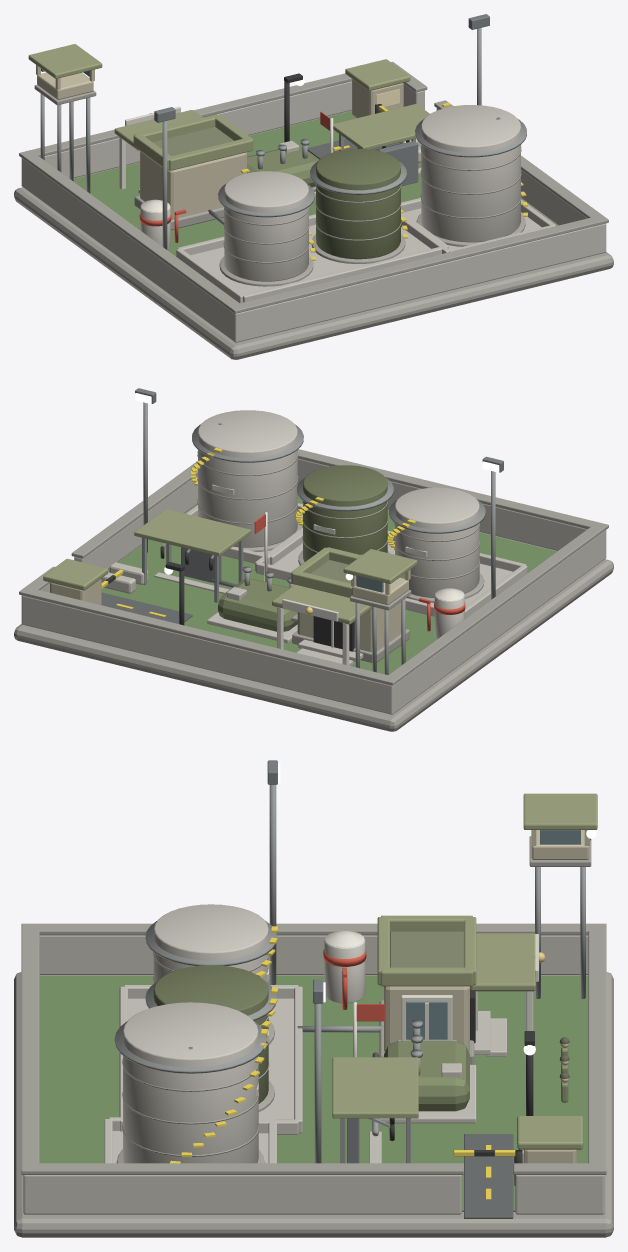
Rendered from fueldepot_10.glb.
The picture shows the model from 3 angles, top to bottom: view 1: azimuth 30°, elevation 25°; view 2: azimuth 150°, elevation 25°; view 3: azimuth 270°, elevation 25°; orthographic projection. The views are drawn at different scales.
Parts seen in each view (by area): view 1: Cylinder.016, Cube, Cube.104, Cylinder.002, Cylinder.009, Cube.106, Cube.001, Cube.102, Cube.072, Cube.105, Cube.107, Cube.095 (+28 smaller); view 2: Cube, Cube.102, Cylinder.016, Cube.001, Cylinder.002, Cylinder.009, Cube.106, Cube.103, Cube.104, Cube.095, Cube.107, Cube.122 (+27 smaller); view 3: Cube.001, Cylinder.016, Cube, Cube.110, Cube.106, Cylinder.002, Cube.095, Cube.111, Cylinder.009, Cube.103, Cube.105, Cube.107 (+28 smaller).
Boxes of the visible parts, x1,y1,x2,y2 form: Cylinder.016: [421, 105, 520, 242]; Cube: [14, 110, 613, 359]; Cube.104: [231, 223, 606, 342]; Cylinder.002: [224, 171, 308, 281]; Cylinder.009: [316, 148, 400, 259]; Cube.106: [24, 160, 231, 339]; Cube.001: [73, 111, 557, 256]; Cube.102: [21, 81, 351, 188]; Cube.072: [140, 151, 246, 219]; Cube.105: [229, 215, 608, 313]; Cube.107: [22, 152, 239, 311]; Cube.095: [333, 104, 429, 149]; Cube: [14, 504, 613, 731]; Cube.102: [21, 595, 396, 714]; Cylinder.016: [198, 410, 297, 547]; Cube.001: [101, 495, 556, 674]; Cylinder.002: [395, 487, 479, 597]; Cylinder.009: [303, 465, 387, 561]; Cube.106: [396, 532, 603, 711]; Cube.103: [19, 587, 399, 685]; Cube.104: [297, 458, 606, 559]; Cube.095: [134, 509, 250, 556]; Cube.107: [388, 524, 605, 683]; Cube.122: [218, 578, 297, 631]; Cube.001: [39, 975, 588, 1211]; Cylinder.016: [123, 1002, 258, 1163]; Cube: [14, 972, 613, 1237]; Cube.110: [32, 1175, 461, 1214]; Cube.106: [39, 935, 588, 974]; Cylinder.002: [153, 904, 268, 983]; Cube.095: [332, 1057, 418, 1118]; Cube.111: [29, 1163, 463, 1174]; Cylinder.009: [153, 965, 268, 1103]; Cube.103: [588, 923, 606, 1174]; Cube.105: [21, 923, 39, 1174]; Cube.107: [29, 923, 598, 935].
Bounding box in the file's own units: 2.92 × 1.29 × 2.92.
